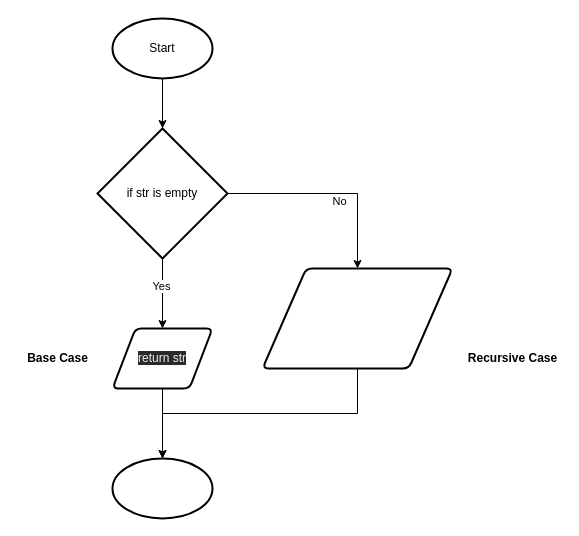
Some shapes in this 579 by 536 pixel diagram are drawn without their labels. The shapes that lost their labels are listed below. From the top down, each one's centre as x and y in pixels, then its label:
At point (357, 318): "return reverseString(str.slice(1)) + str.slice(0,1)".
At point (162, 488): "Stop".
